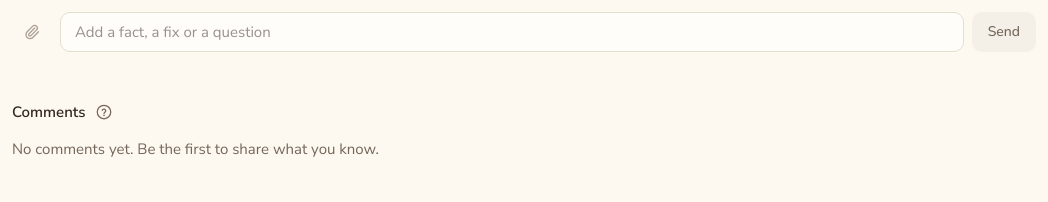
Test case: CommunitySection — the input › keeps the text and says so when the send fails
Type "Lead approves access." into the text box named "Know more about Team Board?". click: (512, 32)
box: [60,12,964,52]
Then press Enter
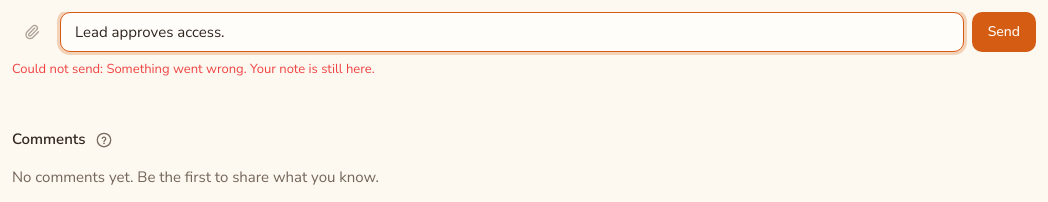
Expected: the message shows "Could not send", [12,60,375,78]
